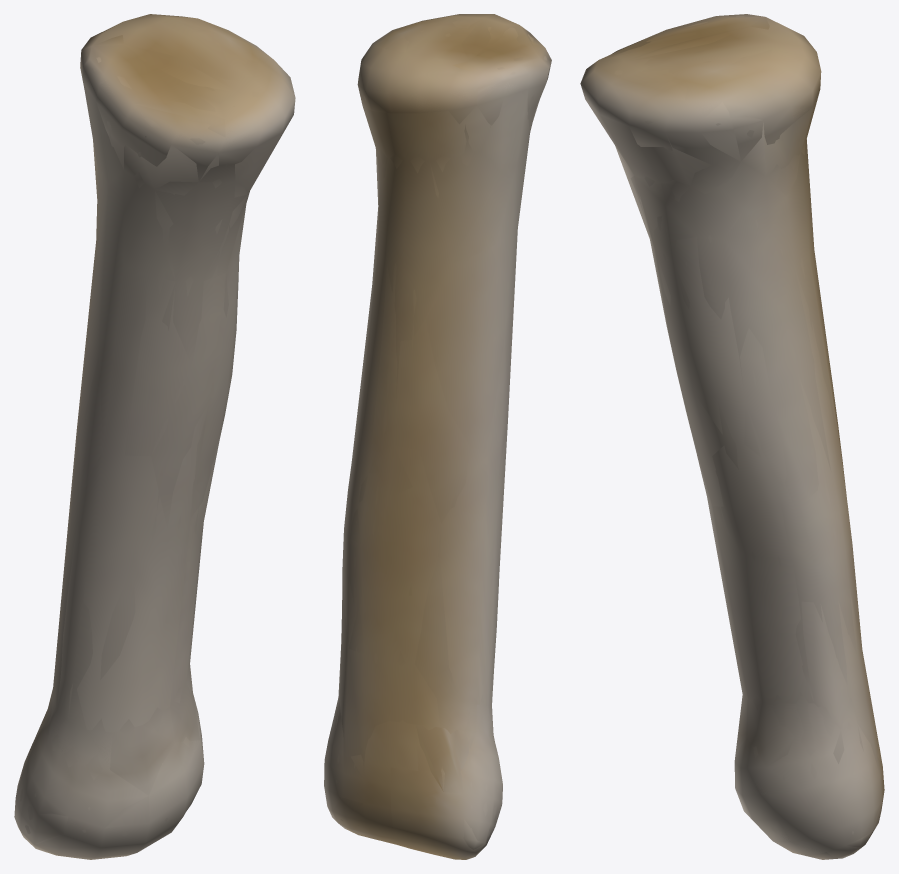
Rendered from R Radius.fbx.
3 views of the same model, side by side, from view 1: azimuth 30°, elevation 25°; view 2: azimuth 150°, elevation 25°; view 3: azimuth 270°, elevation 25° (orthographic). The views are drawn at different scales.
Parts seen in each view (by area): view 1: R Radius low, R Radius, R Radius high; view 2: R Radius low, R Radius, R Radius high; view 3: R Radius low, R Radius, R Radius high.
Part boxes in pixels (x1,y1,x2,y2): R Radius low: (15,15,292,859); R Radius: (14,14,295,859); R Radius high: (20,26,259,836); R Radius low: (327,14,551,858); R Radius: (324,14,551,859); R Radius high: (327,15,547,857); R Radius low: (581,17,884,858); R Radius: (580,14,884,859); R Radius high: (609,16,879,856).
Bounding box in the file's own units: 1.82 × 7.65 × 2.59.
